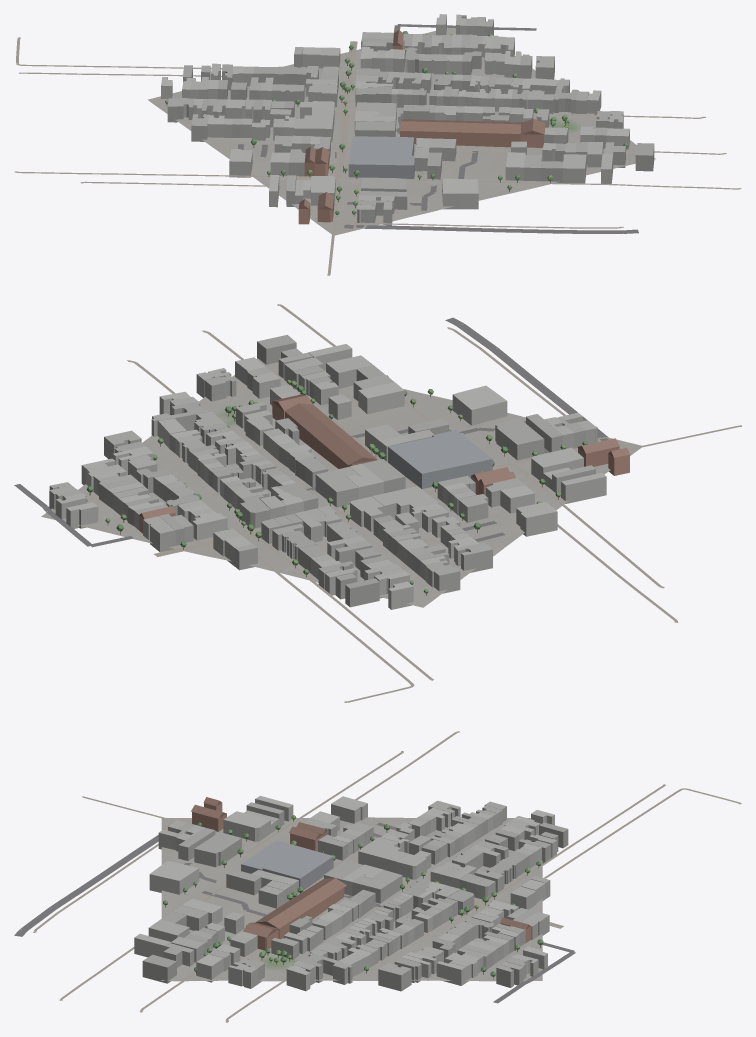
The model's file is tile_-6_-5.glb.
The picture shows the model from 3 angles, top to bottom: view 1: azimuth 30°, elevation 25°; view 2: azimuth 150°, elevation 25°; view 3: azimuth 270°, elevation 25°; orthographic projection. The views are drawn at different scales.
Visible parts, largest first — view 1: buildings, terrain, roads, props; view 2: buildings, terrain, roads, props; view 3: buildings, terrain, roads, props.
Part boxes in pixels (bbox=[...]): buildings: bbox=[161, 14, 654, 225]; terrain: bbox=[148, 28, 655, 235]; roads: bbox=[14, 24, 741, 275]; props: bbox=[165, 31, 628, 216]; buildings: bbox=[49, 334, 629, 609]; terrain: bbox=[41, 358, 641, 607]; roads: bbox=[14, 304, 741, 702]; props: bbox=[86, 375, 587, 595]; buildings: bbox=[134, 795, 568, 991]; terrain: bbox=[161, 817, 542, 981]; roads: bbox=[14, 731, 741, 1022]; props: bbox=[163, 815, 543, 979].
Size of the model in its own units: 459 by 16.87 by 489.
